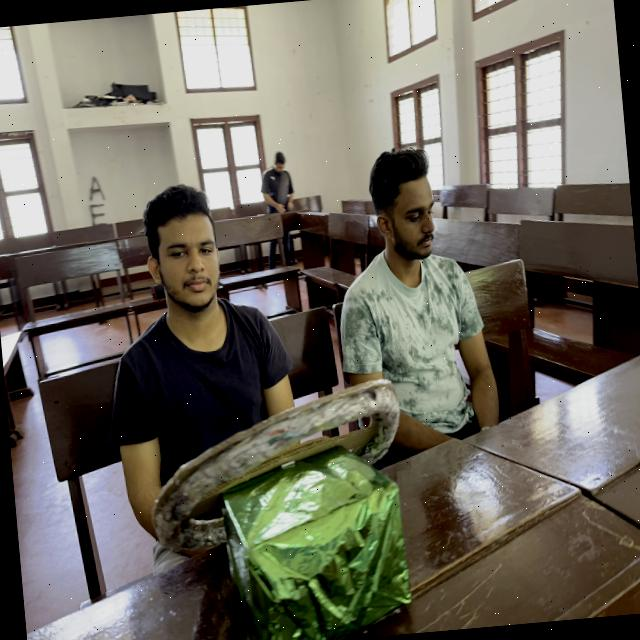Helmet: (97, 298, 310, 556), (326, 248, 506, 463)
